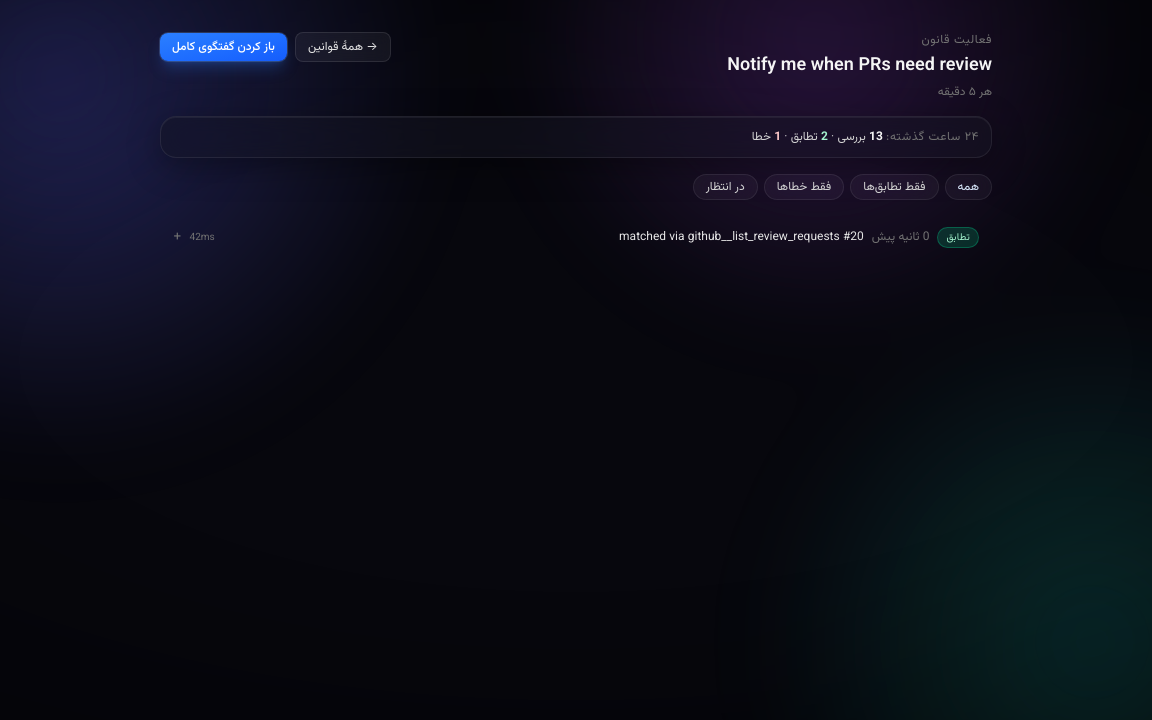
Test: RuleActivity page › renders a ToolCallCard inside an expanded matched row
Step 1. Click the button that starts with "تطابق" → (958, 237), box top-left (173, 225), bottom-right (979, 249)
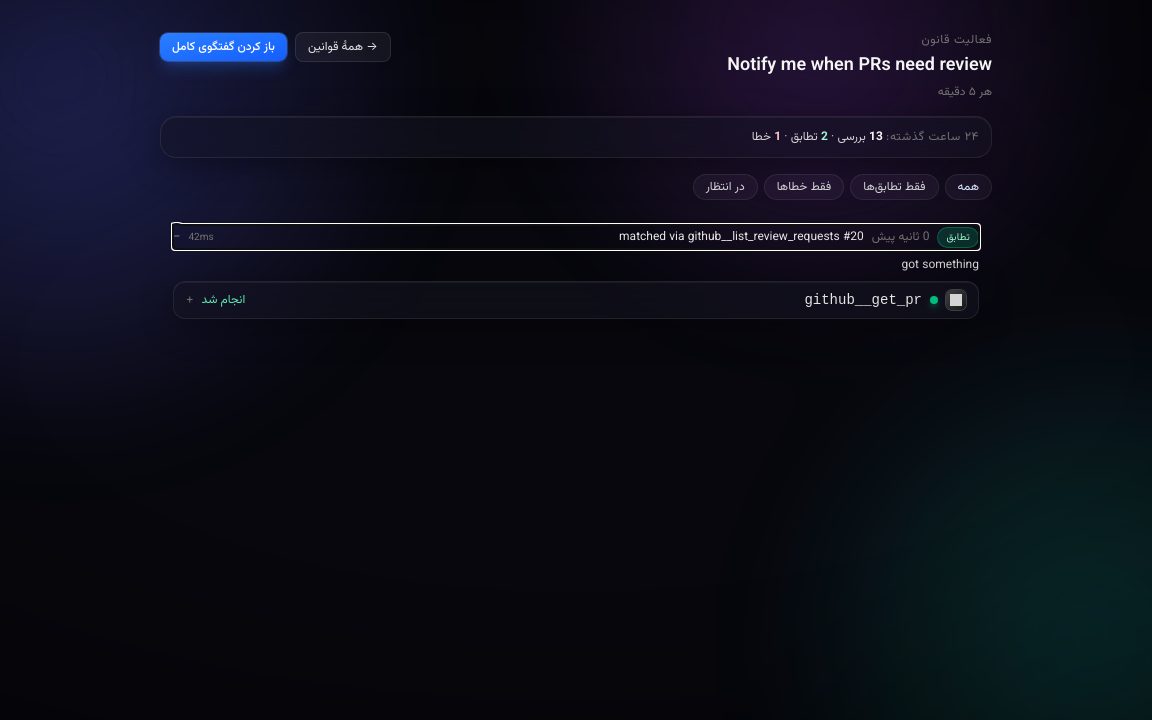
Check: the element with test id "tool-call-card" shows "github__get_pr", box top-left (174, 282), bottom-right (978, 318)
